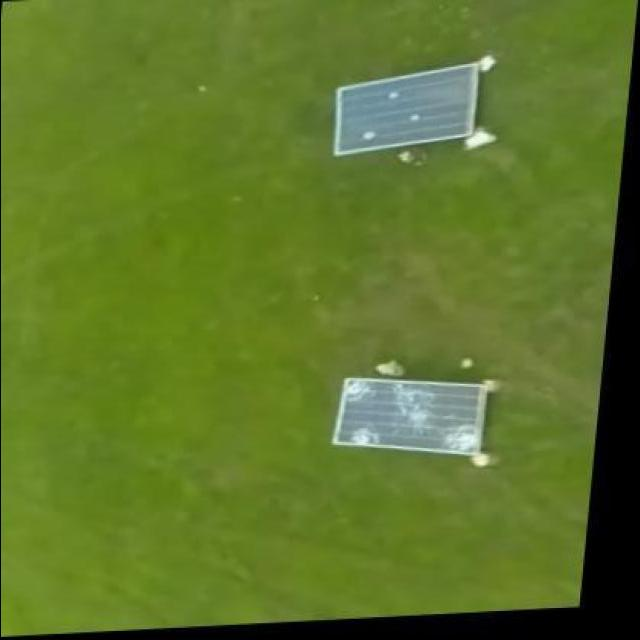cracked: (328, 375, 493, 462)
soiled: (332, 60, 483, 146)
